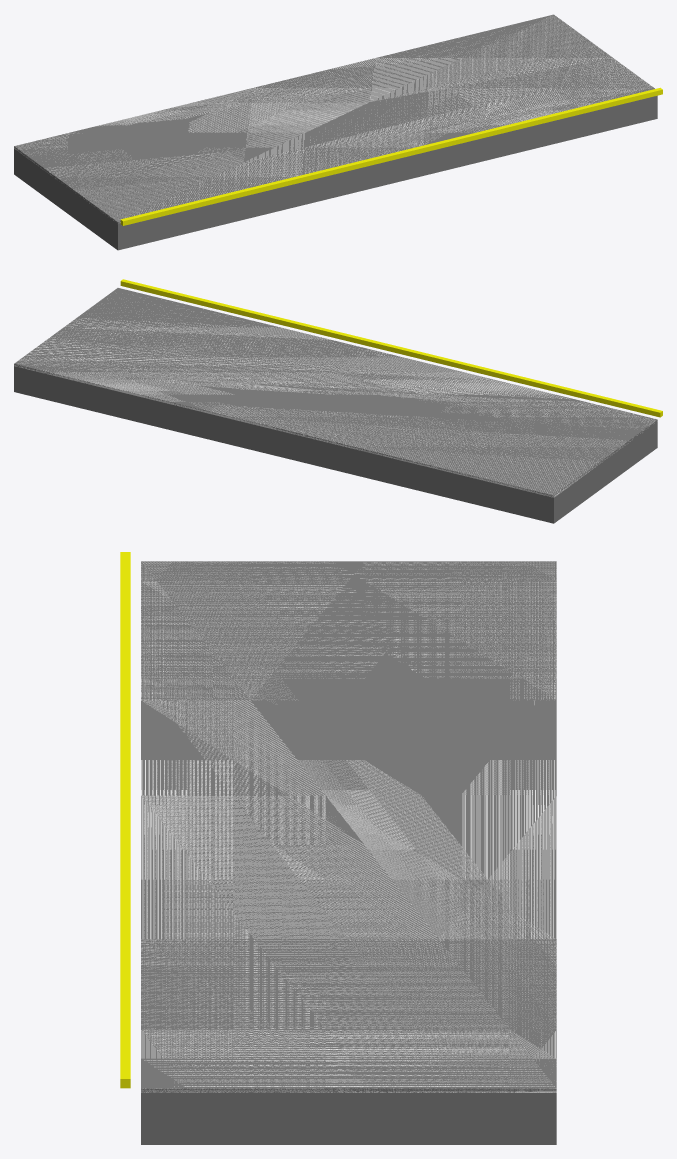
Rendered from Chữ chân nhôm xước có gờ.obj.
3 renders of one model, top to bottom at view 1: azimuth 30°, elevation 25°; view 2: azimuth 150°, elevation 25°; view 3: azimuth 270°, elevation 25°, orthographic. The views are drawn at different scales.
Visible parts, largest first — view 1: khungsatdo, bematbien, denled; view 2: khungsatdo, bematbien, denled; view 3: khungsatdo, bematbien, denled.
Part boxes in pixels (<box>): khungsatdo: <box>14,14,657,250</box>; bematbien: <box>14,15,651,222</box>; denled: <box>120,87,662,225</box>; khungsatdo: <box>14,288,657,523</box>; bematbien: <box>14,298,654,497</box>; denled: <box>120,279,662,417</box>; khungsatdo: <box>141,561,556,1144</box>; bematbien: <box>141,561,556,1092</box>; denled: <box>120,552,130,1088</box>.
Size of the model in its own units: 1.2 by 0.07 by 0.42.
